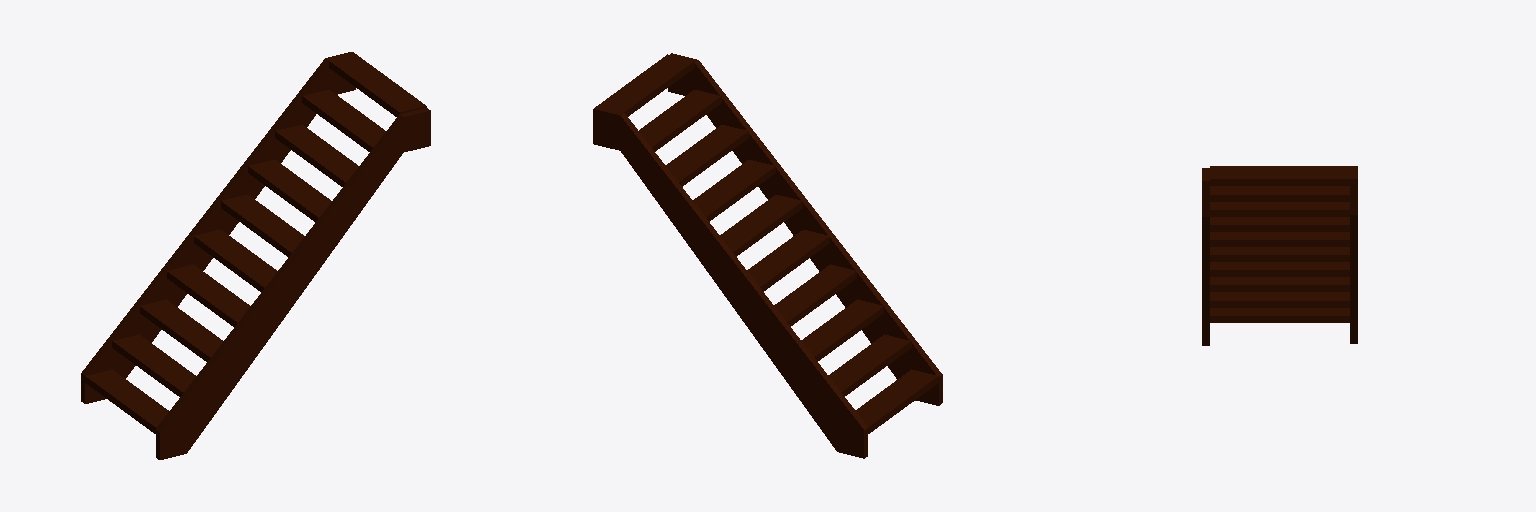
File: 2x4_stair.obj
3 renders of one model, left to right at view 1: azimuth 30°, elevation 25°; view 2: azimuth 150°, elevation 25°; view 3: azimuth 270°, elevation 25°, orthographic.
Visible parts, largest first — view 1: stair; view 2: stair; view 3: stair.
Part boxes in pixels (x1,y1,x2,y2): stair: (81,52,430,459); stair: (593,53,942,458); stair: (1202,166,1357,345).
Size of the model in its own units: 4 by 4.03 by 2.